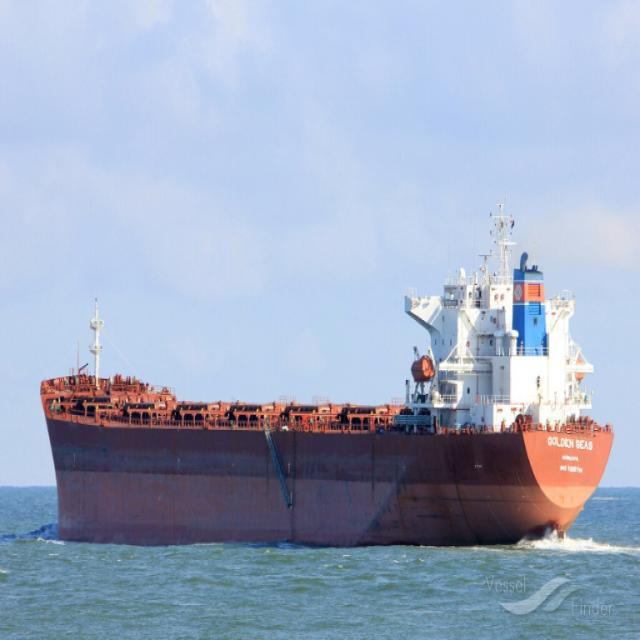OCR: (542, 428, 596, 482)
